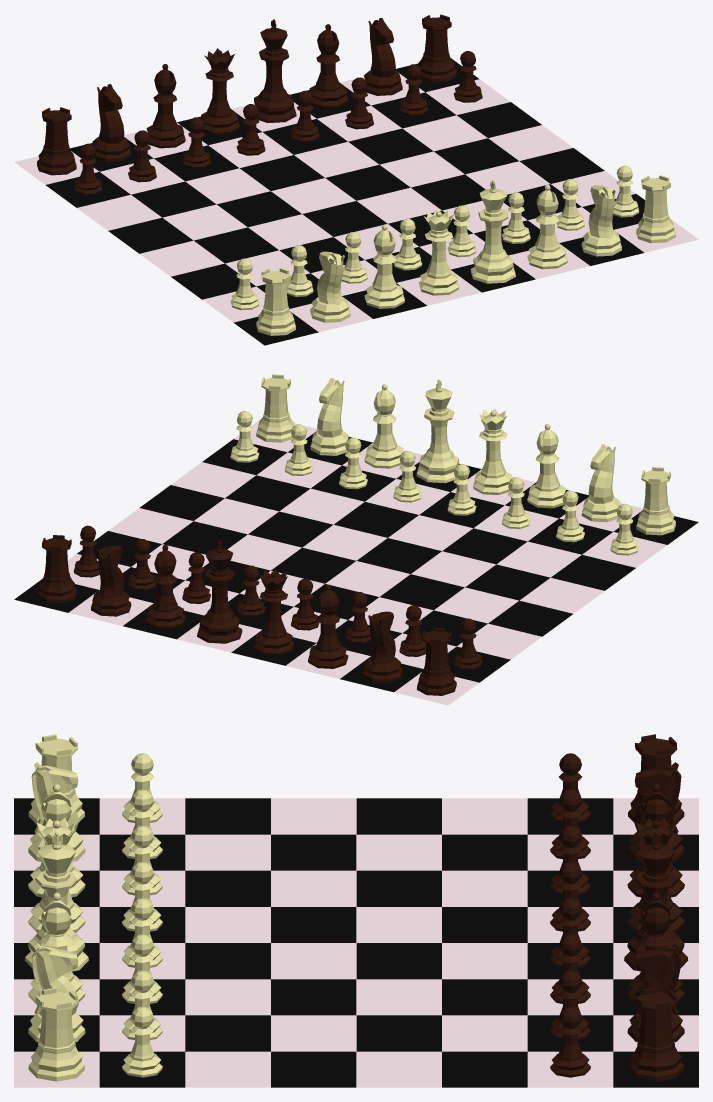
Rendered from sah_animatie2.glb.
3 renders of one model, top to bottom at view 1: azimuth 30°, elevation 25°; view 2: azimuth 150°, elevation 25°; view 3: azimuth 270°, elevation 25°, orthographic. The views are drawn at different scales.
Visible parts, largest first — view 1: Tabla de sah, King, King.001, Queen, Queen.001, Knight.003, Knight.002, Knight.001, Knight, Bishop.001, Rock.001, Rock (+21 smaller); view 2: Tabla de sah, King.001, King, Queen.001, Queen, Knight.001, Knight, Knight.002, Knight.003, Bishop.003, Rock, Rock.003 (+21 smaller); view 3: Tabla de sah, Rock.001, Rock.004, King.001, King, Knight.002, Knight, Knight.001, Knight.003, Bishop, Bishop.002, Pawn.009 (+21 smaller).
Boxes of the visible parts, bbox=[...] form: Tabla de sah: bbox=[14, 58, 698, 345]; King: bbox=[470, 180, 515, 283]; King.001: bbox=[254, 19, 296, 122]; Queen: bbox=[418, 209, 459, 295]; Queen.001: bbox=[201, 48, 239, 134]; Knight.003: bbox=[92, 84, 131, 162]; Knight.002: bbox=[364, 18, 402, 95]; Knight.001: bbox=[310, 251, 350, 322]; Knight: bbox=[581, 185, 621, 256]; Bishop.001: bbox=[364, 224, 404, 308]; Rock.001: bbox=[636, 175, 675, 243]; Rock: bbox=[256, 267, 295, 335]; Tabla de sah: bbox=[14, 418, 698, 705]; King.001: bbox=[197, 540, 242, 643]; King: bbox=[416, 379, 459, 482]; Queen.001: bbox=[253, 569, 294, 655]; Queen: bbox=[473, 409, 511, 494]; Knight.001: bbox=[581, 444, 620, 522]; Knight: bbox=[310, 378, 348, 455]; Knight.002: bbox=[91, 545, 131, 616]; Knight.003: bbox=[362, 611, 402, 682]; Bishop.003: bbox=[308, 584, 348, 668]; Rock: bbox=[636, 467, 675, 535]; Rock.003: bbox=[416, 627, 456, 695]; Tabla de sah: bbox=[14, 798, 698, 1087]; Rock.001: bbox=[28, 987, 84, 1081]; Rock.004: bbox=[628, 987, 684, 1081]; King.001: bbox=[624, 832, 688, 971]; King: bbox=[24, 832, 88, 971]; Knight.002: bbox=[627, 943, 684, 1042]; Knight: bbox=[28, 943, 85, 1042]; Knight.001: bbox=[28, 762, 85, 861]; Knight.003: bbox=[627, 762, 684, 861]; Bishop: bbox=[28, 892, 85, 1004]; Bishop.002: bbox=[627, 892, 684, 1004]; Pawn.009: bbox=[122, 1006, 162, 1077].
Size of the model in its own units: 0.48 by 0.0997 by 0.48.
